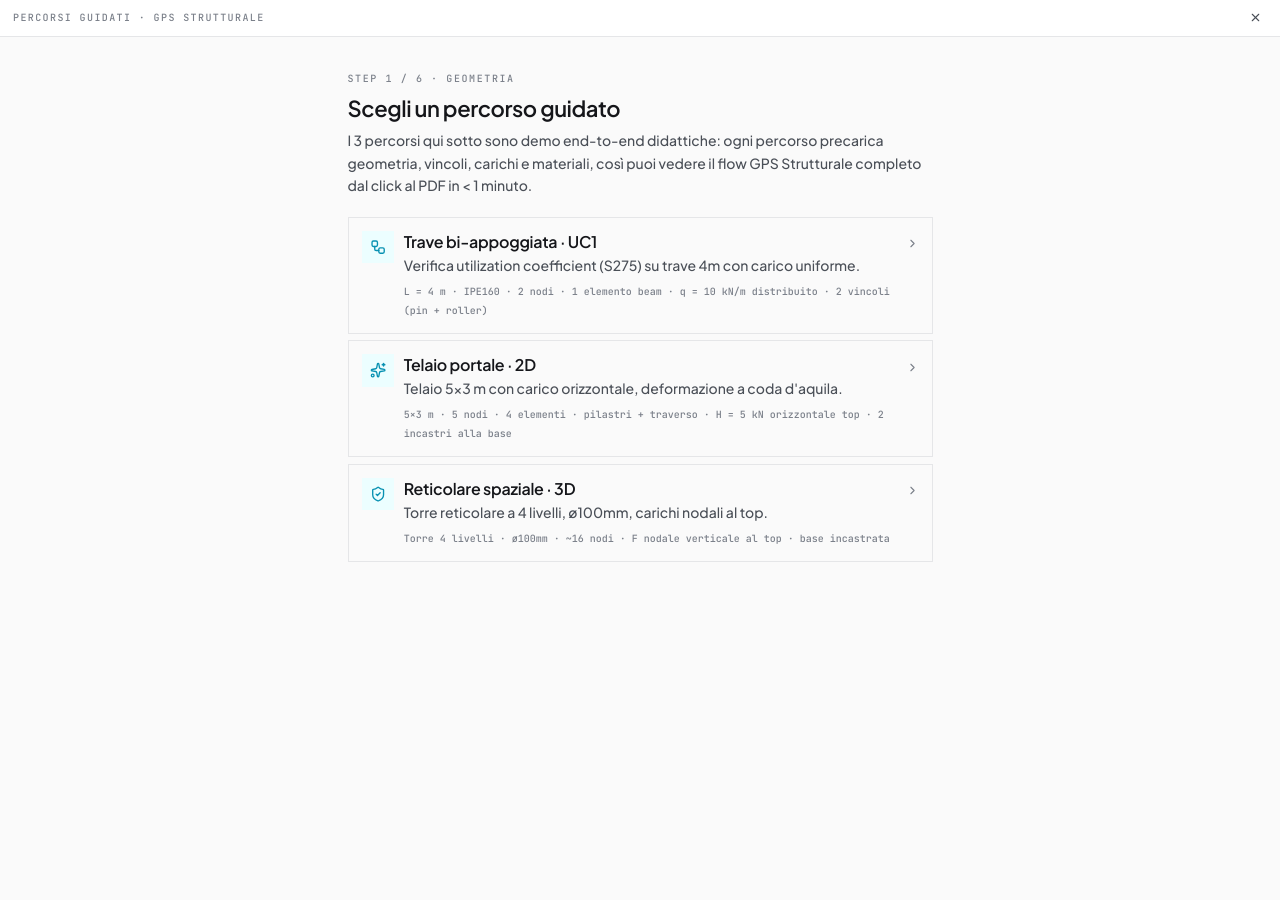
PercorsiBeamWizard (v2.6.3.1 full-page workspace) › step 2 → 'Avanti' avanza a step 3 (Materiali/Sezioni)
This screenshot has width=1280, height=900.
What coordinates should you click on to do the following:
click the button with test id "percorsi-card-trave-bi-appoggiata-uc1"
I would click on:
 (640, 275)
Its box is [348,216,932,334].
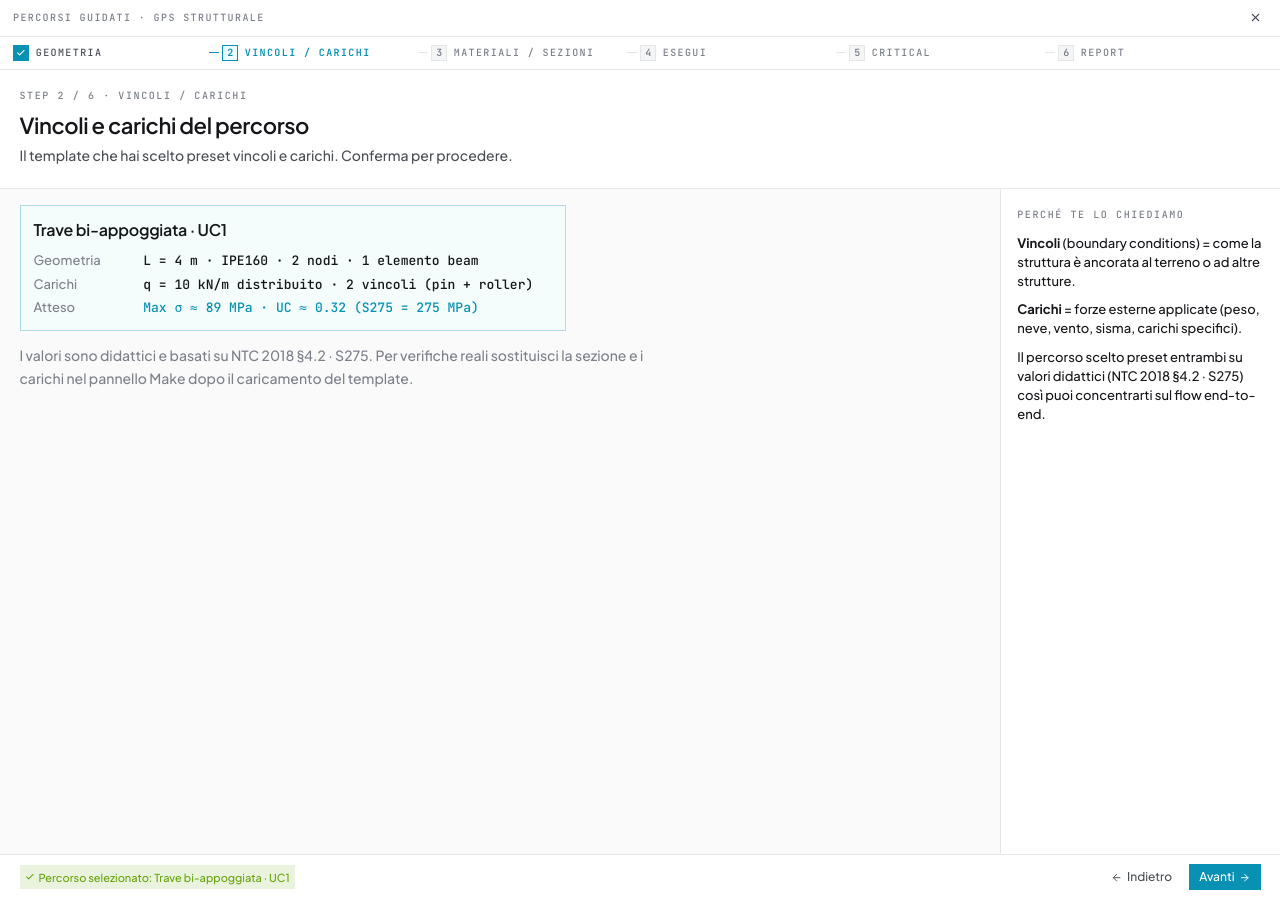
What coordinates should you click on to do the following:
click the button with test id "percorso-step-forward"
I would click on:
 (1225, 877)
Its box is [1189,864,1260,890].
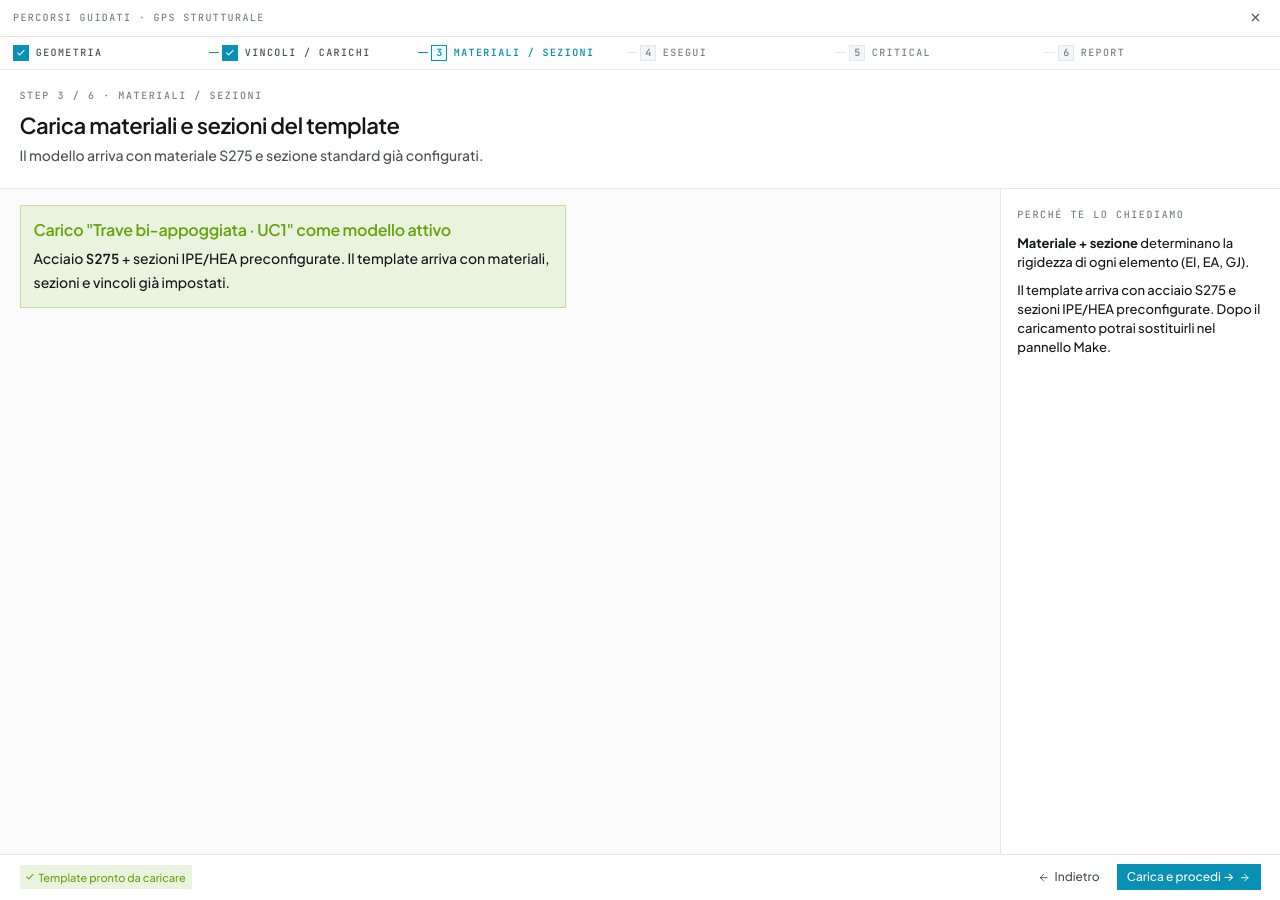
Check: the element with test id "percorsi-step-3" is shown, box [20,205,566,308]
Check: the heading "Carica materiali e sezioni del template" is shown, box [20,110,400,138]
